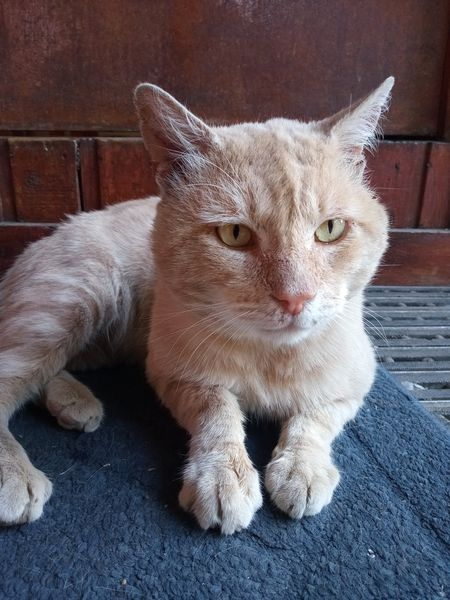cat: (1, 58, 408, 546)
